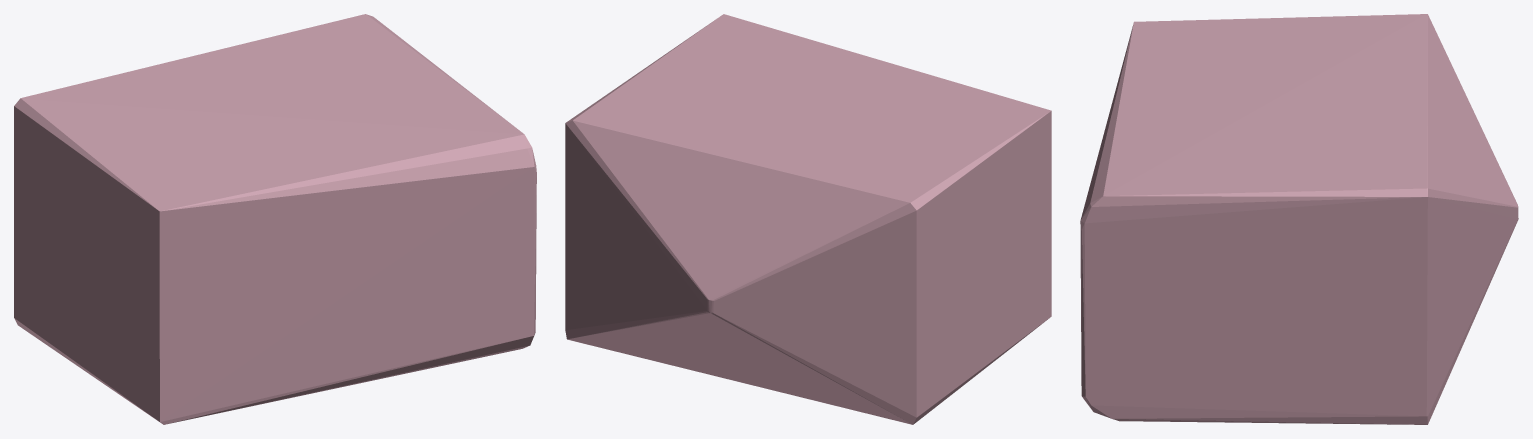
File: trolley_instrument_b01.glb
3 views of the same model, side by side, from view 1: azimuth 30°, elevation 25°; view 2: azimuth 150°, elevation 25°; view 3: azimuth 270°, elevation 25° (orthographic). The views are drawn at different scales.
Parts seen in each view (by area): view 1: geometry_0; view 2: geometry_0; view 3: geometry_0.
Part boxes in pixels (left/top/right/bottom): geometry_0: left=14, top=14, right=536, bottom=424; geometry_0: left=565, top=14, right=1051, bottom=424; geometry_0: left=1080, top=14, right=1518, bottom=424.
Size of the model in its own units: 0.4701 by 0.2831 by 0.4791.
